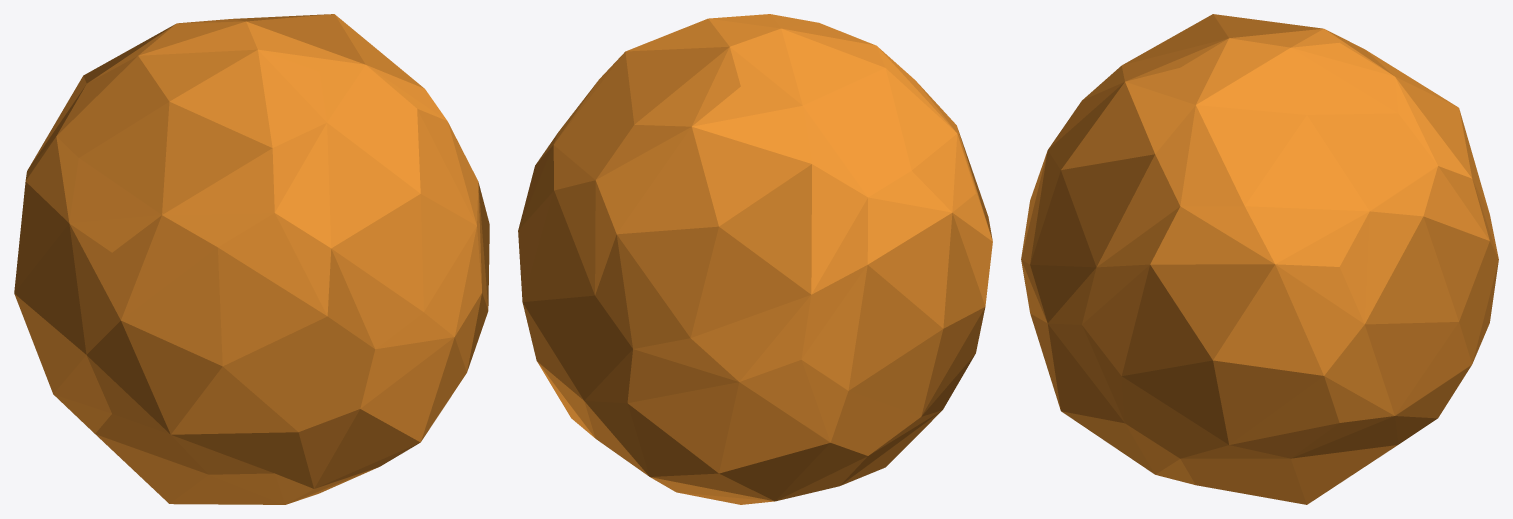
3 renders of one model, left to right at view 1: azimuth 30°, elevation 25°; view 2: azimuth 150°, elevation 25°; view 3: azimuth 270°, elevation 25°, orthographic. The views are drawn at different scales.
Parts seen in each view (by area): view 1: body; view 2: body; view 3: body.
Boxes of the visible parts, left/top/right/bottom form: body: left=14, top=14, right=489, bottom=504; body: left=518, top=14, right=992, bottom=504; body: left=1021, top=14, right=1498, bottom=504.
Size of the model in its own units: 0.75 by 0.75 by 0.75.
